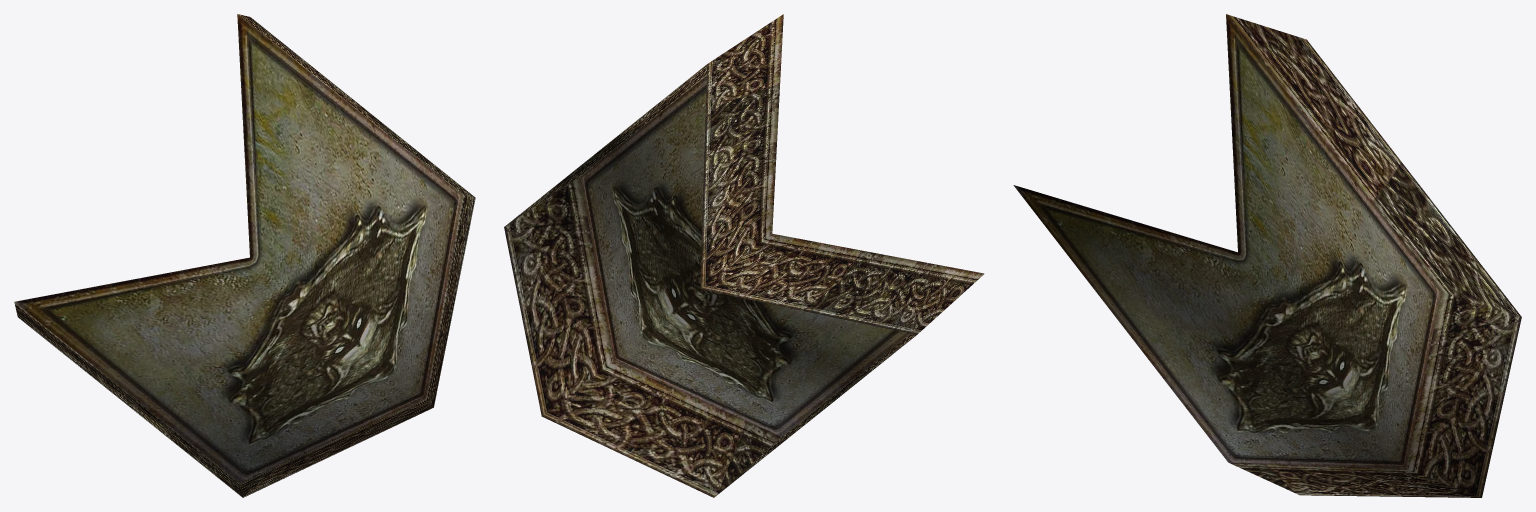
File: EVT_MAINHALL_DOOR_LOCK_BR_01.glb
3 renders of one model, left to right at view 1: azimuth 30°, elevation 25°; view 2: azimuth 150°, elevation 25°; view 3: azimuth 330°, elevation 25°, orthographic. The views are drawn at different scales.
Parts seen in each view (by area): view 1: Mesh; view 2: Mesh; view 3: Mesh.
Boxes of the visible parts, left/top/right/bottom form: Mesh: left=14, top=14, right=475, bottom=497; Mesh: left=504, top=14, right=984, bottom=497; Mesh: left=1013, top=14, right=1521, bottom=497.
Bounding box in the file's own units: 0.4005 × 0.4005 × 0.05.
2 materials, 2 textured.
